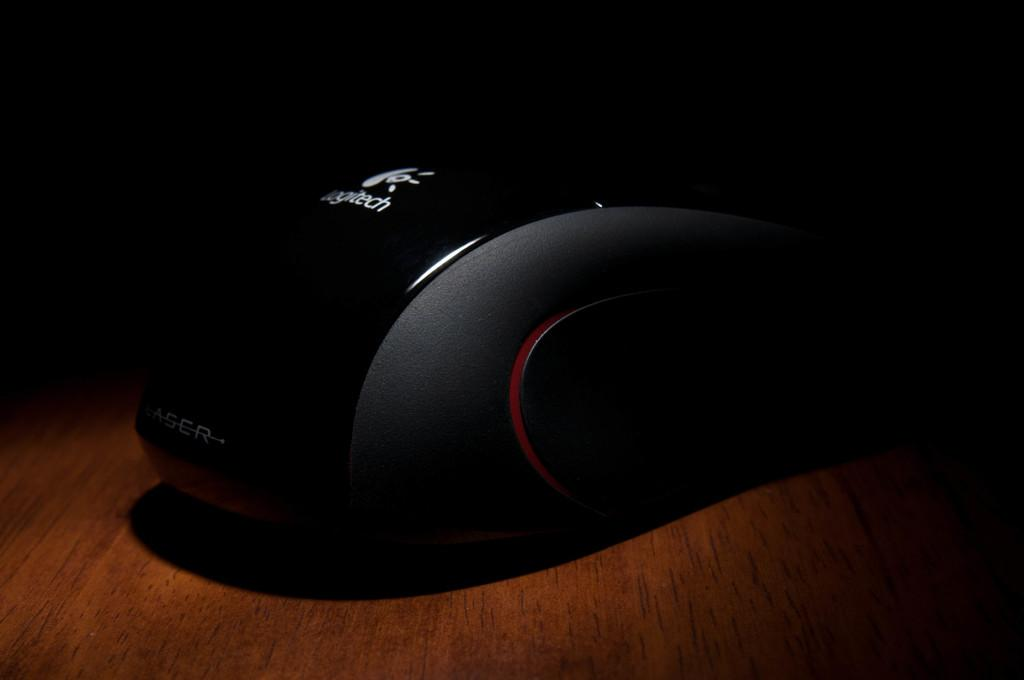Computer-mouse: (131, 135, 783, 559)
